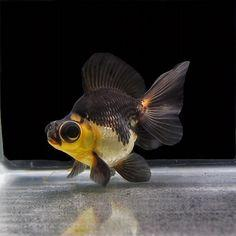goldfish: (35, 55, 202, 190)
